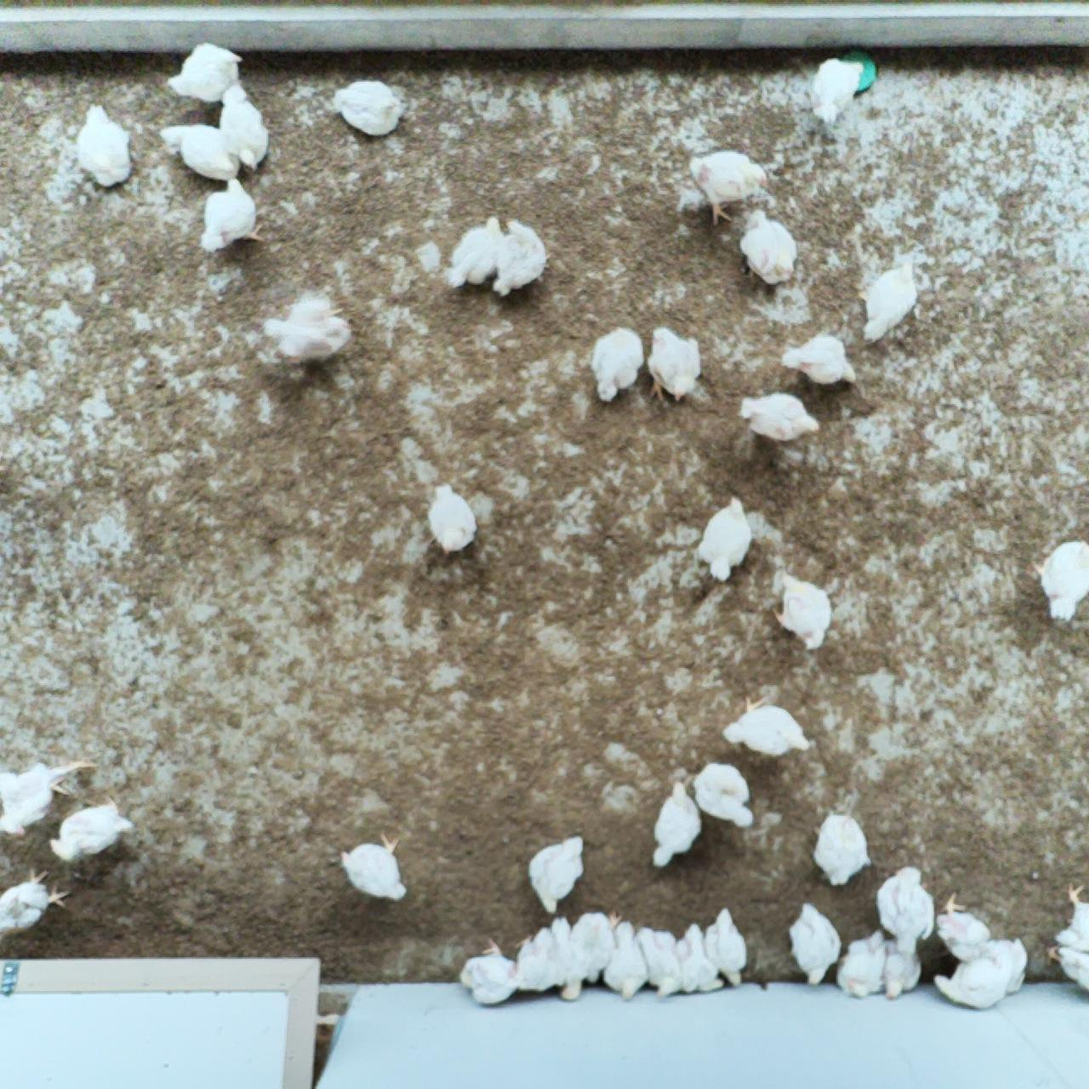chicken: (0, 753, 100, 840), (260, 280, 355, 371), (685, 145, 773, 229), (720, 689, 817, 765), (559, 905, 626, 1007), (803, 802, 877, 892), (874, 862, 939, 962), (43, 793, 137, 862), (1023, 532, 1089, 629), (770, 563, 835, 655), (694, 493, 758, 585), (0, 864, 78, 939), (72, 98, 136, 189), (195, 176, 267, 256), (337, 826, 410, 904), (216, 76, 274, 174), (163, 41, 247, 107), (737, 206, 802, 291), (157, 121, 244, 184), (509, 912, 575, 995), (329, 72, 408, 141), (491, 216, 553, 302), (527, 831, 588, 918), (647, 779, 704, 872), (785, 898, 844, 986), (645, 322, 706, 407), (735, 388, 822, 446), (442, 213, 505, 292), (780, 329, 859, 391), (692, 759, 759, 831), (588, 322, 646, 405), (456, 935, 520, 1010), (421, 480, 482, 557), (808, 51, 867, 129), (836, 928, 894, 1003), (601, 918, 652, 1003), (671, 920, 727, 996), (935, 890, 992, 964), (931, 958, 1008, 1012), (701, 904, 750, 988), (634, 922, 686, 1001), (880, 936, 927, 1005), (981, 934, 1033, 996), (1052, 879, 1089, 956), (1041, 941, 1089, 994)
